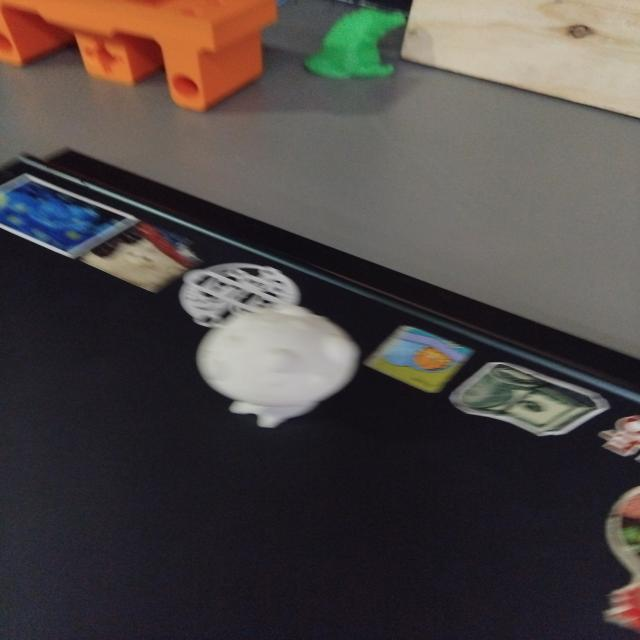Hongo: (198, 288, 365, 444)
